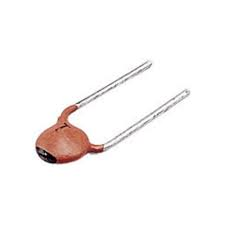ceramic capacitor: (10, 75, 125, 187)
